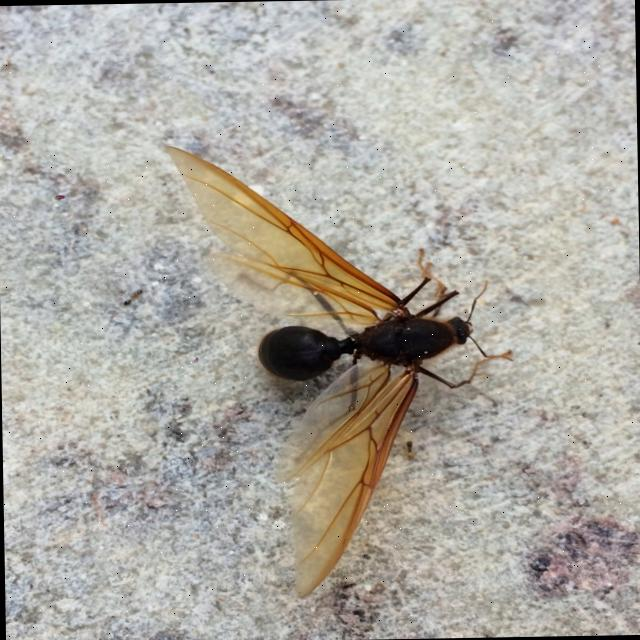Alive-Male-Alate: (163, 138, 519, 602)
